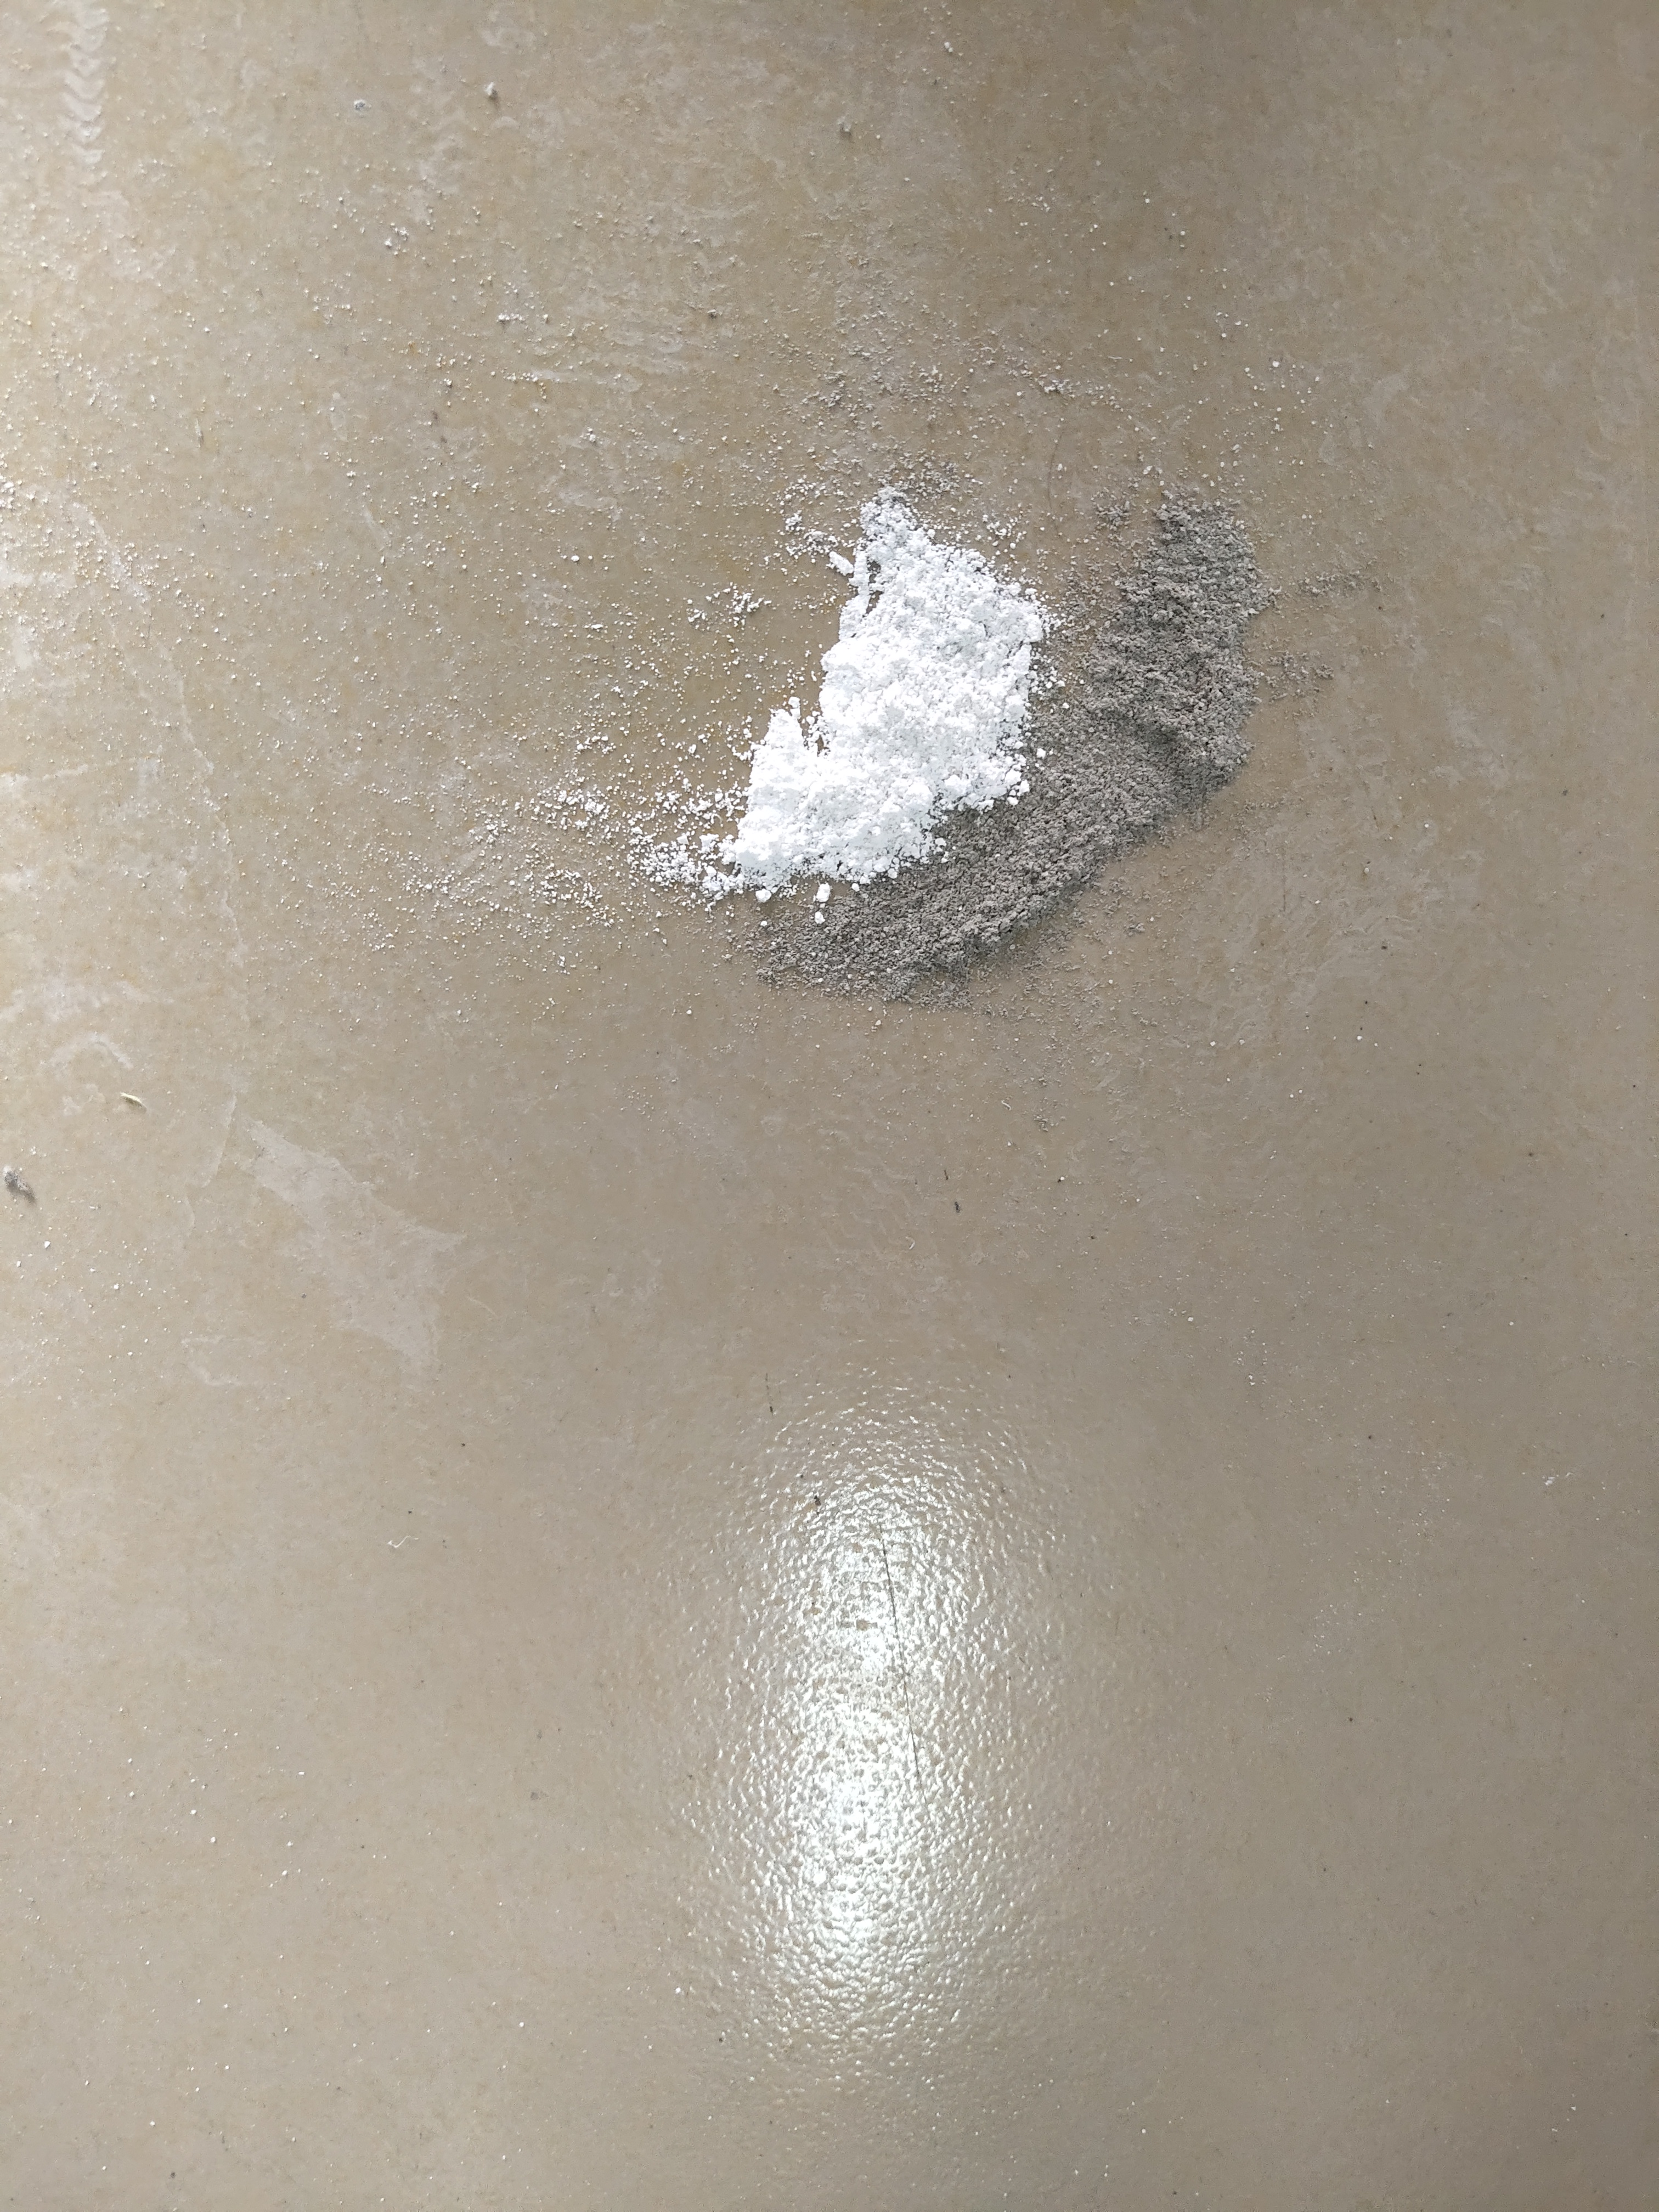ash pile: (624, 467, 1359, 1010)
reflection: (735, 1416, 1030, 2054)
